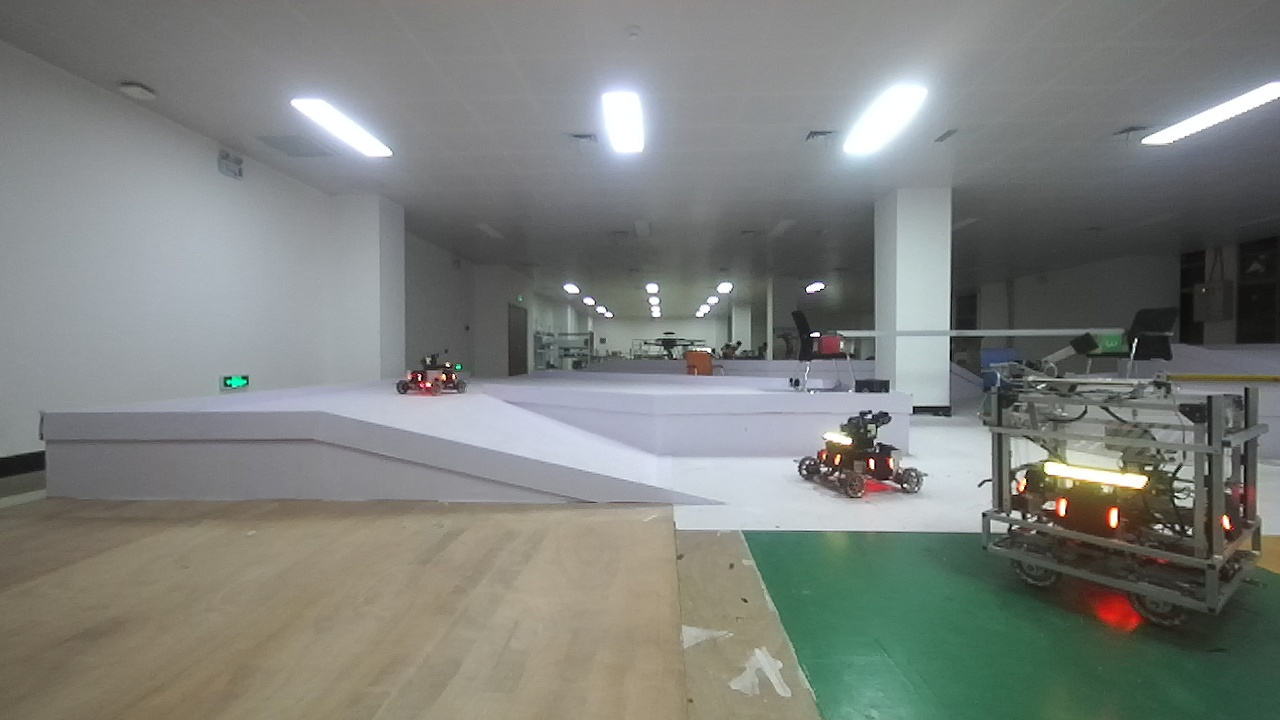car: (973, 364, 1265, 627), (804, 398, 936, 506), (381, 320, 488, 408)
